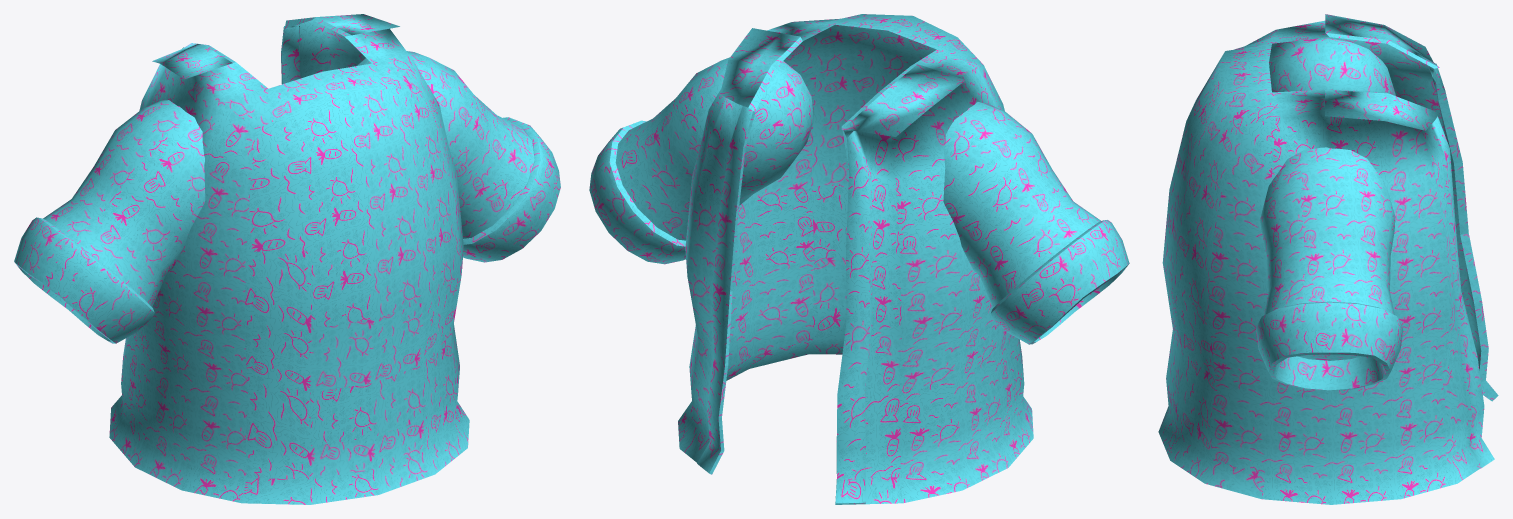
Rendered from item-tropic-shirt.glb.
3 views of the same model, side by side, from view 1: azimuth 30°, elevation 25°; view 2: azimuth 150°, elevation 25°; view 3: azimuth 270°, elevation 25° (orthographic). The views are drawn at different scales.
Bounding box in the file's own units: 0.147 × 0.1029 × 0.0855.
1 material, 1 textured.
